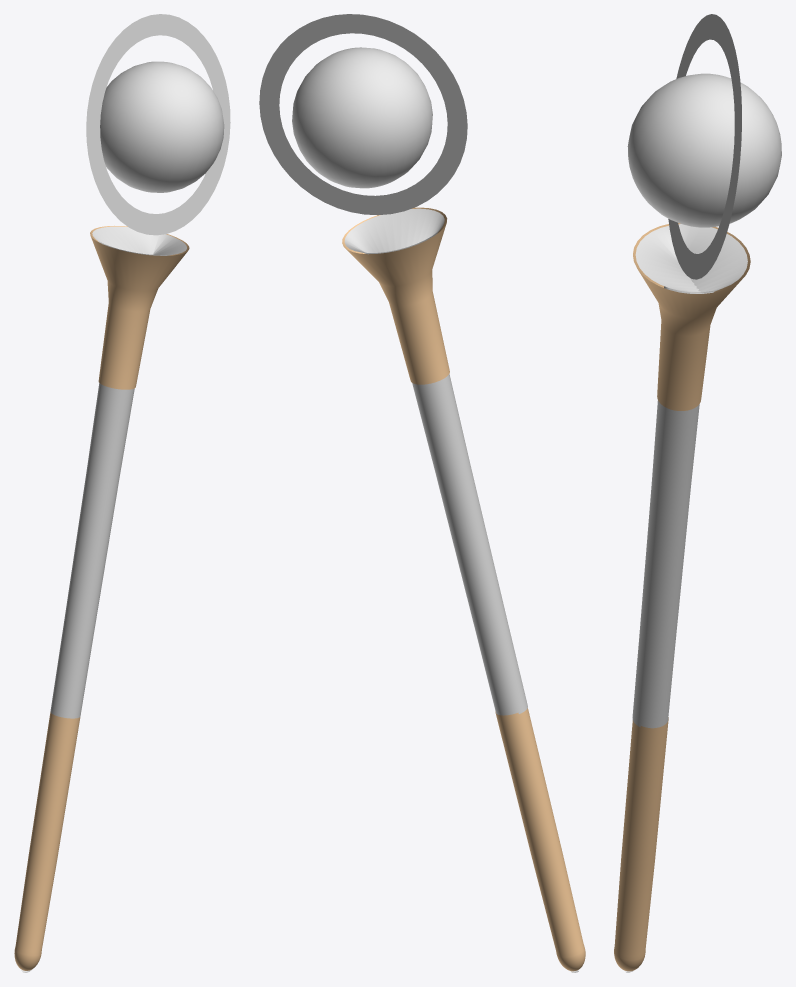
Rendered from whis_staff_265194.glb.
The picture shows the model from 3 angles, left to right: view 1: azimuth 30°, elevation 25°; view 2: azimuth 150°, elevation 25°; view 3: azimuth 270°, elevation 25°; orthographic projection. The views are drawn at different scales.
Parts seen in each view (by area): view 1: Sphere.001, Sphere, Torus, Sphere.003, Sphere.002; view 2: Sphere.001, Sphere, Torus, Sphere.003, Sphere.002; view 3: Sphere.001, Sphere, Sphere.003, Sphere.002, Torus.
Boxes of the visible parts, x1=… form: Sphere.001: x1=100, y1=61, x2=224, y2=192; Sphere: x1=21, y1=226, x2=186, y2=972; Torus: x1=86, y1=14, x2=230, y2=235; Sphere.003: x1=14, y1=712, x2=80, y2=970; Sphere.002: x1=90, y1=225, x2=189, y2=389; Sphere.001: x1=292, y1=47, x2=432, y2=188; Sphere: x1=344, y1=208, x2=578, y2=972; Torus: x1=259, y1=14, x2=467, y2=215; Sphere.003: x1=495, y1=708, x2=585, y2=971; Sphere.002: x1=342, y1=207, x2=449, y2=384; Sphere.001: x1=627, y1=73, x2=781, y2=227; Sphere: x1=625, y1=224, x2=747, y2=972; Sphere.003: x1=614, y1=717, x2=668, y2=971; Sphere.002: x1=633, y1=223, x2=750, y2=410; Torus: x1=668, y1=14, x2=741, y2=279.
Bounding box in the file's own units: 2.3 × 7.56 × 1.11.
